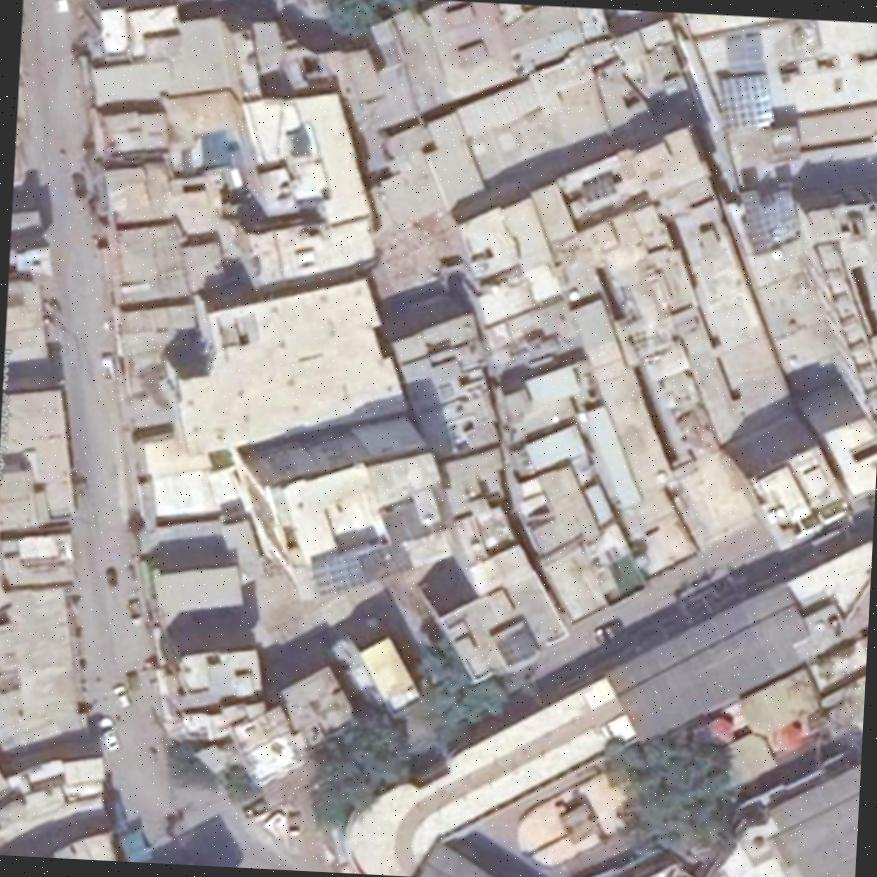Solarpanel: (306, 548, 390, 595), (742, 188, 798, 252), (713, 72, 775, 127)
